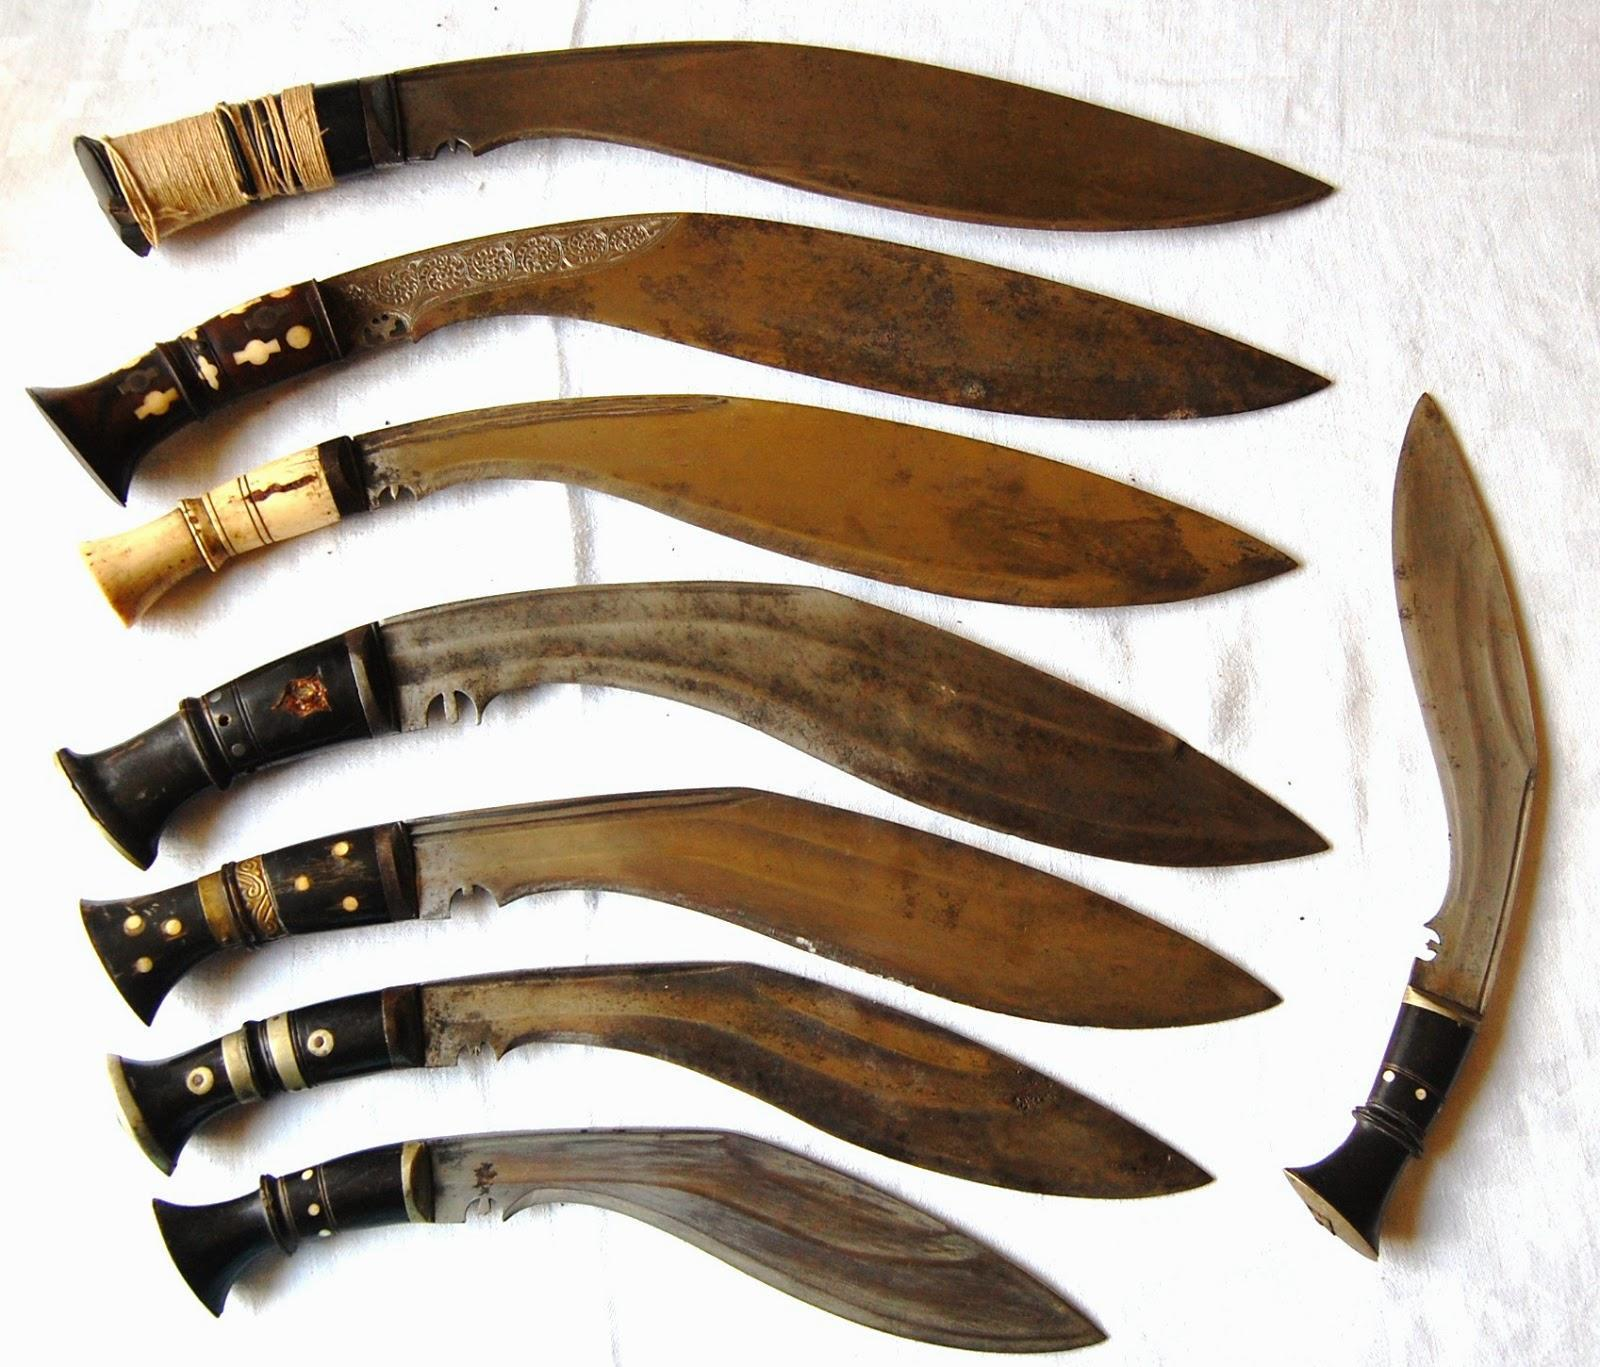facao: (42, 561, 1344, 915), (22, 787, 1334, 1112), (1, 202, 1355, 503), (62, 896, 1214, 1237), (1, 0, 1341, 269), (66, 377, 1334, 636), (1302, 288, 1600, 1367), (96, 1122, 1161, 1367)
